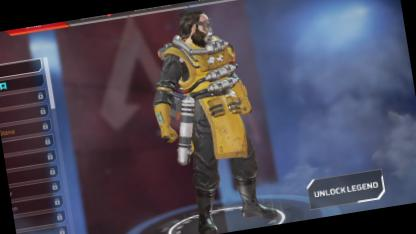Target: (152, 7, 256, 190)
